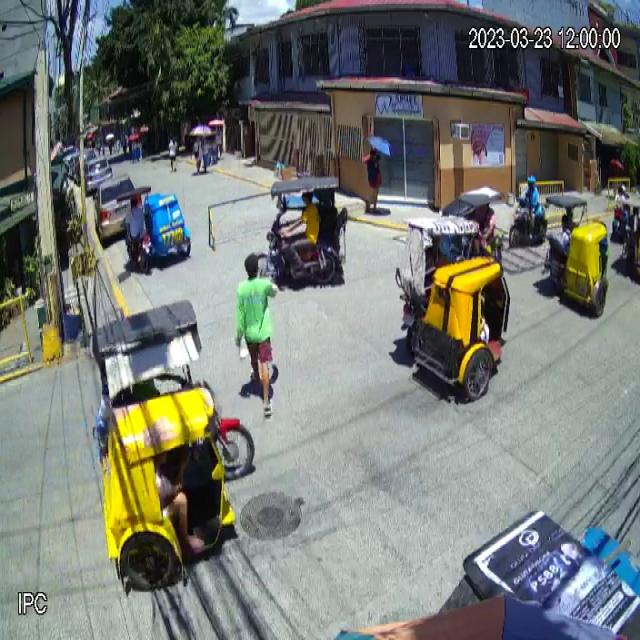Tricycle: (89, 300, 257, 594), (394, 215, 512, 401), (254, 176, 349, 282), (546, 194, 611, 317), (116, 186, 192, 274)
